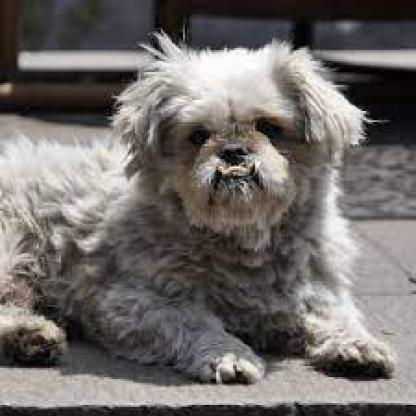Lowchen: (9, 25, 396, 384)
